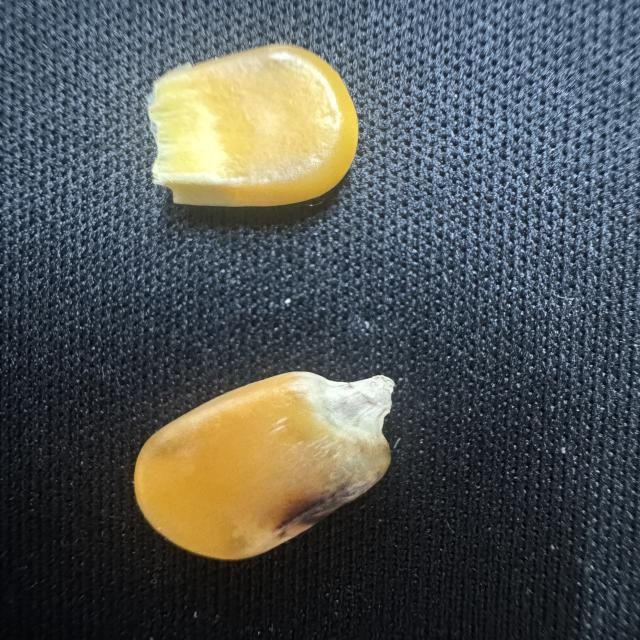Bad-Seed: (128, 358, 402, 566), (138, 40, 355, 212)
